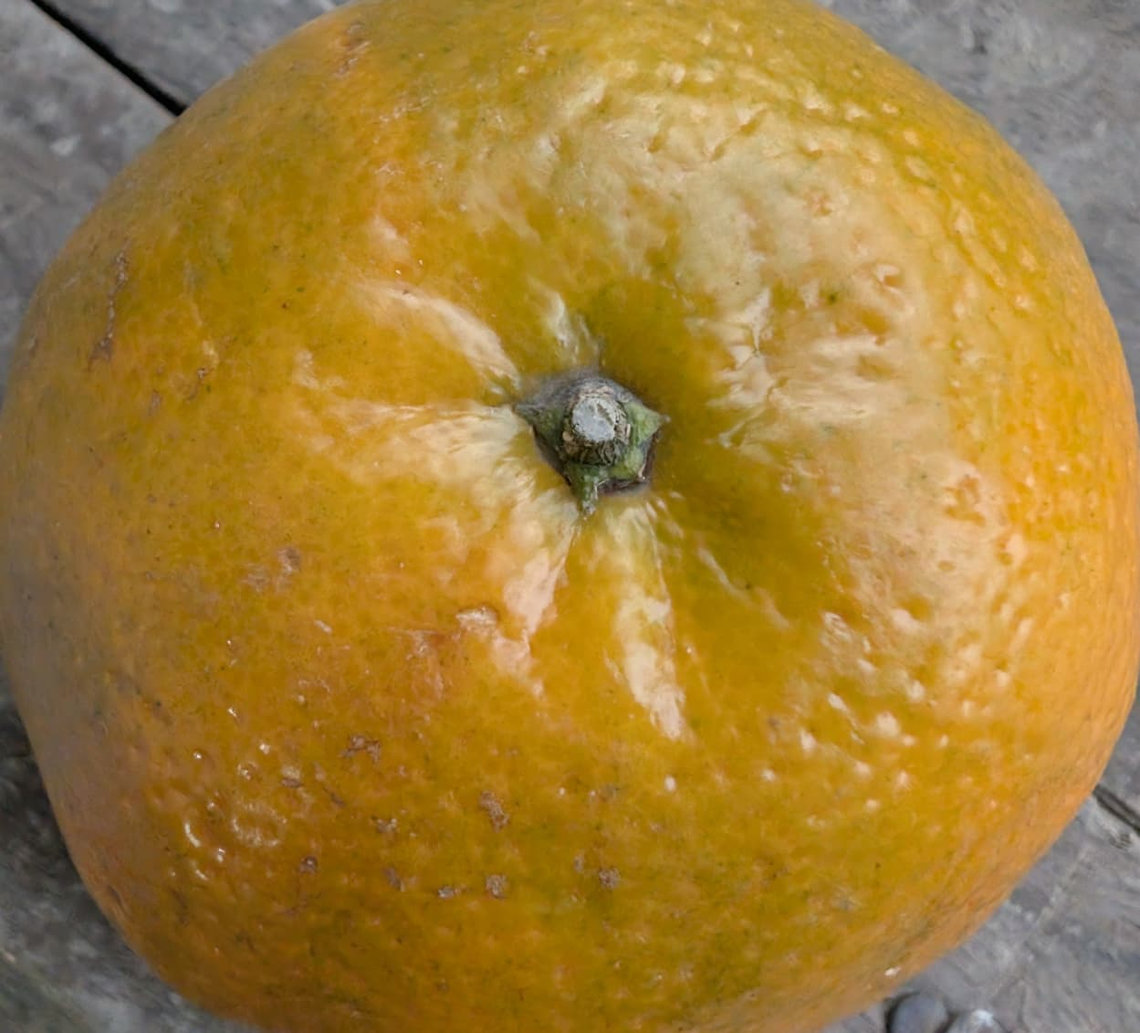orange: (157, 55, 969, 885)
